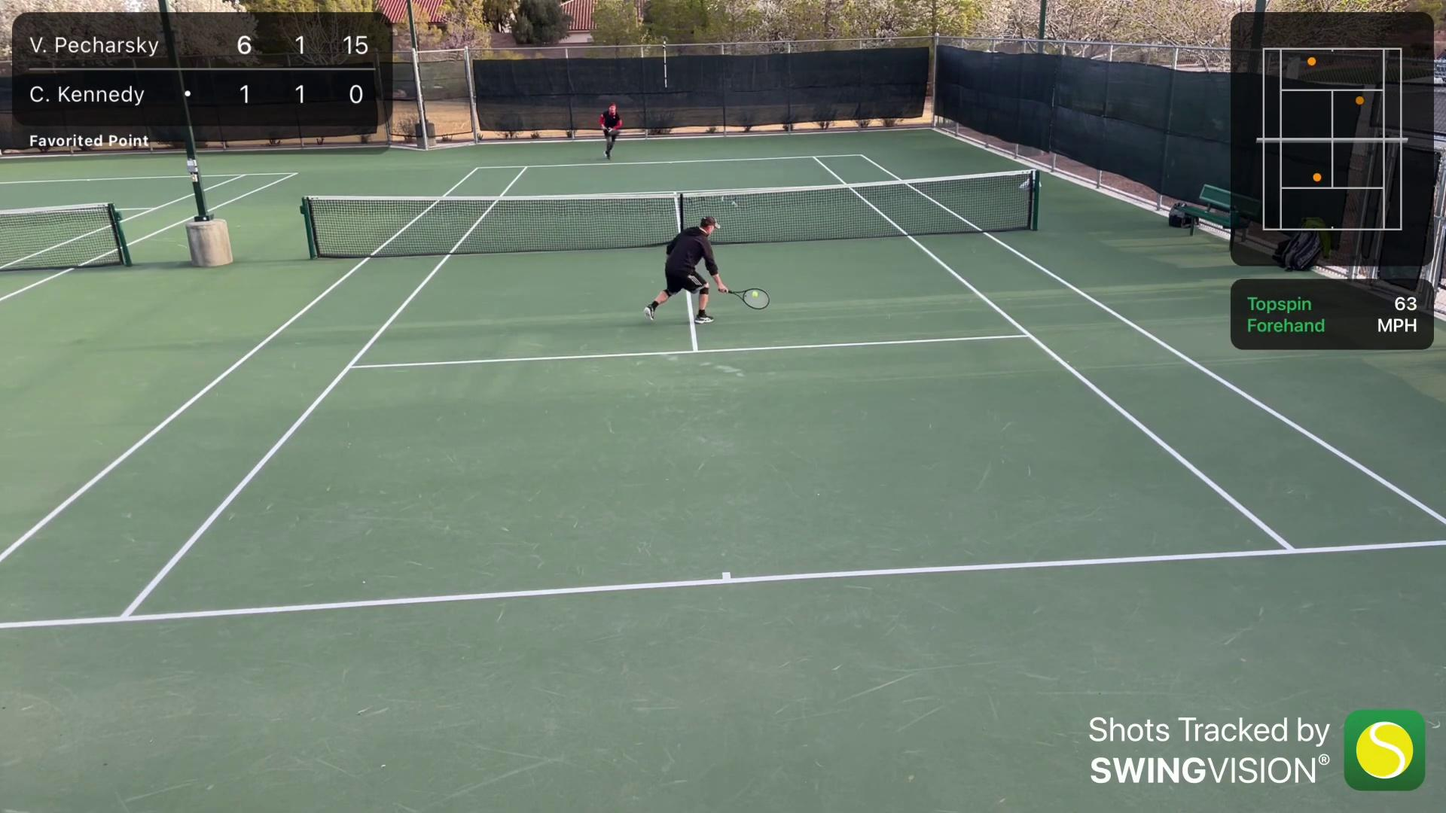ball: (751, 291, 759, 299)
